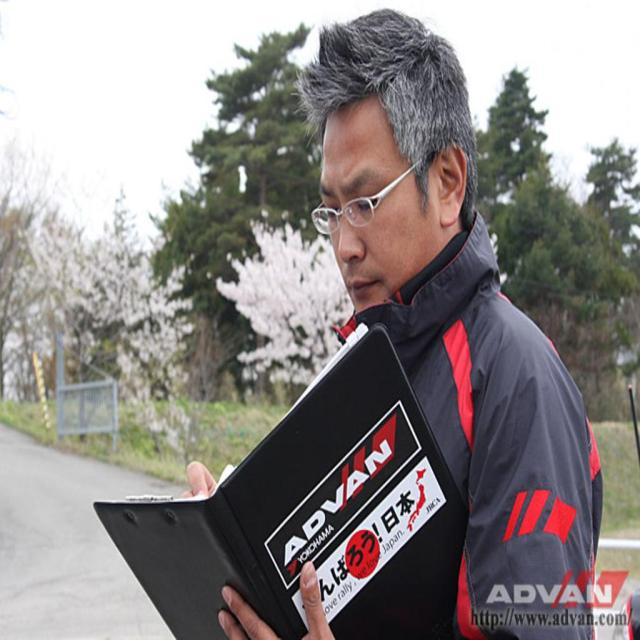Face: (305, 102, 432, 307)
